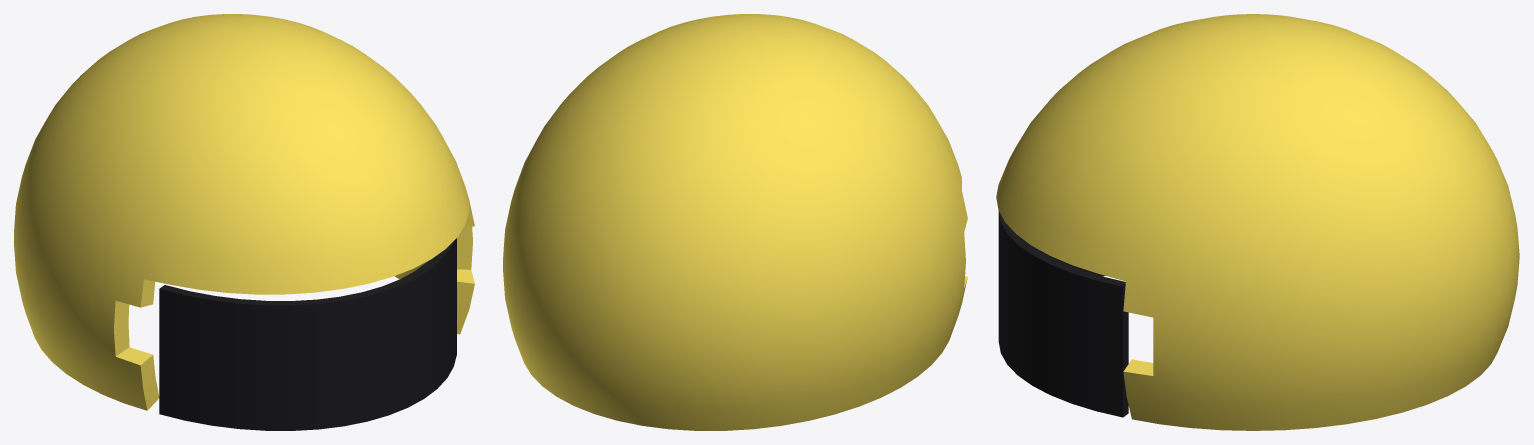
The model's file is helmet.glb.
The picture shows the model from 3 angles, left to right: view 1: azimuth 30°, elevation 25°; view 2: azimuth 150°, elevation 25°; view 3: azimuth 270°, elevation 25°; orthographic projection. The views are drawn at different scales.
Parts seen in each view (by area): view 1: dome, visor; view 2: dome; view 3: dome, visor.
Part boxes in pixels (<box>): dome: <box>14,14,474,410</box>; visor: <box>159,238,456,430</box>; dome: <box>503,14,967,430</box>; dome: <box>996,14,1519,430</box>; visor: <box>998,210,1128,417</box>.
Bounding box in the file's own units: 0.42 × 0.305 × 0.4712.
